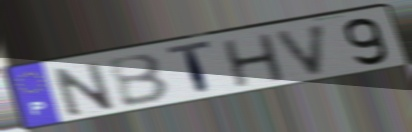9: (341, 16, 390, 68)
B: (104, 51, 174, 109)
H: (219, 31, 290, 90)
N: (48, 59, 120, 119)
T: (164, 38, 215, 98)
V: (272, 20, 331, 78)
